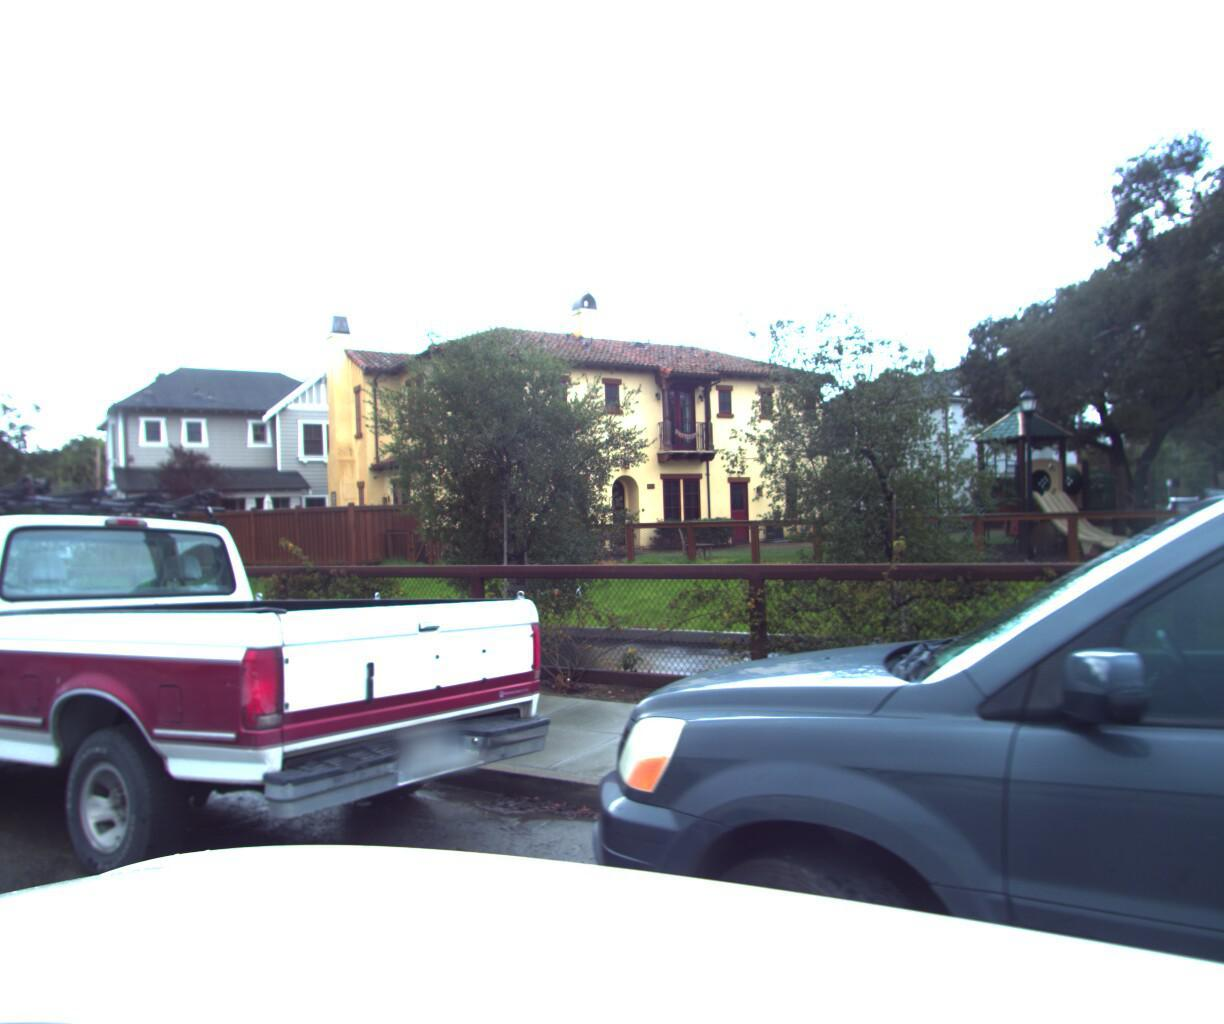car: (496, 0, 1224, 1024), (0, 437, 592, 983), (0, 560, 16, 748)
